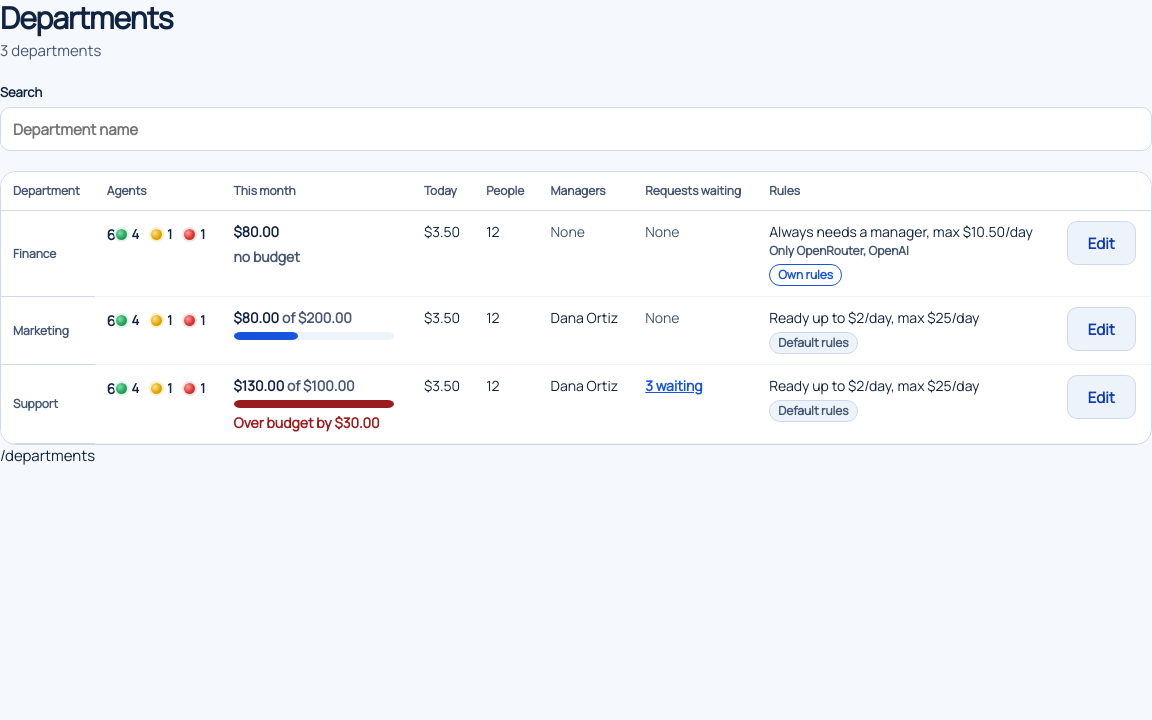
Test case: Departments page › goes back to the default rules with no budget
This screenshot has width=1152, height=720.
Expected: the column heading "Finance" is shown, 1,210 -> 95,296
Click the button with aria-label "Edit Finance" at (1101, 243), box 1067,221 -> 1136,265
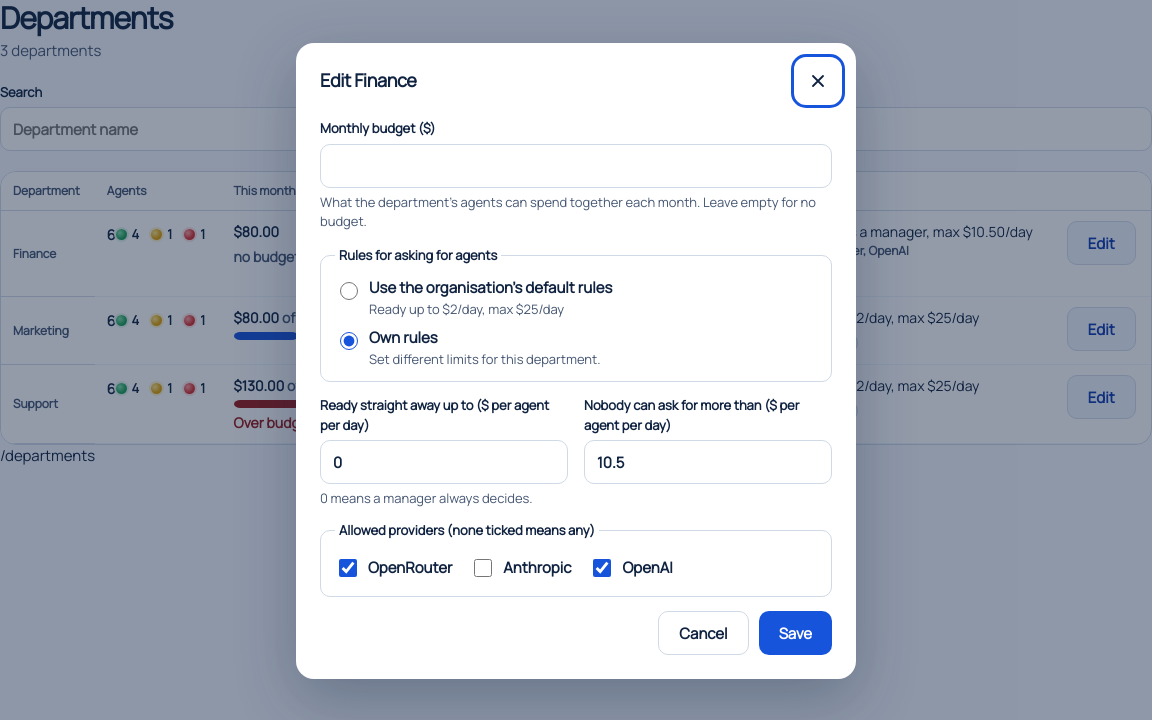
Expected: the radio button labelled "Own rules Set different limits for this department." is checked, 340,332 -> 358,350
Expected: the checkbox labelled "OpenAI" is checked, 594,559 -> 612,577
Expected: the checkbox labelled "OpenRouter" is checked, 339,559 -> 357,577
Click the radio button labelled "default rules" at (349, 291), box 340,282 -> 358,300
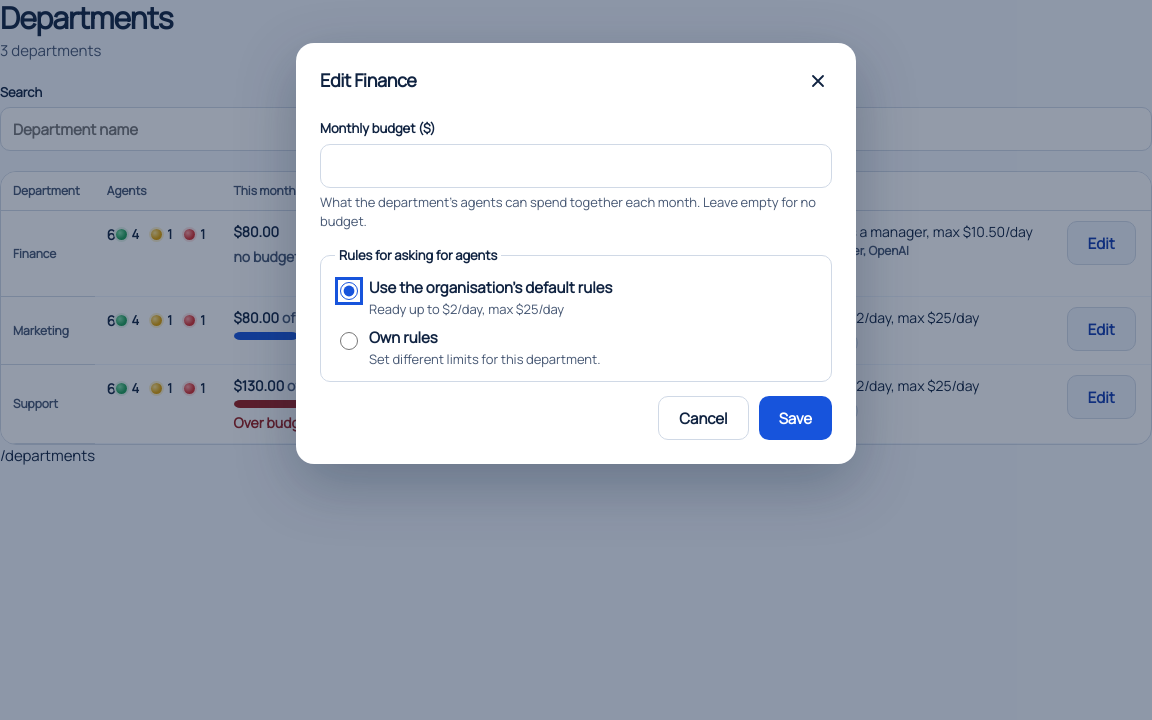
Click the button "Save" at (795, 418), box 759,396 -> 832,440
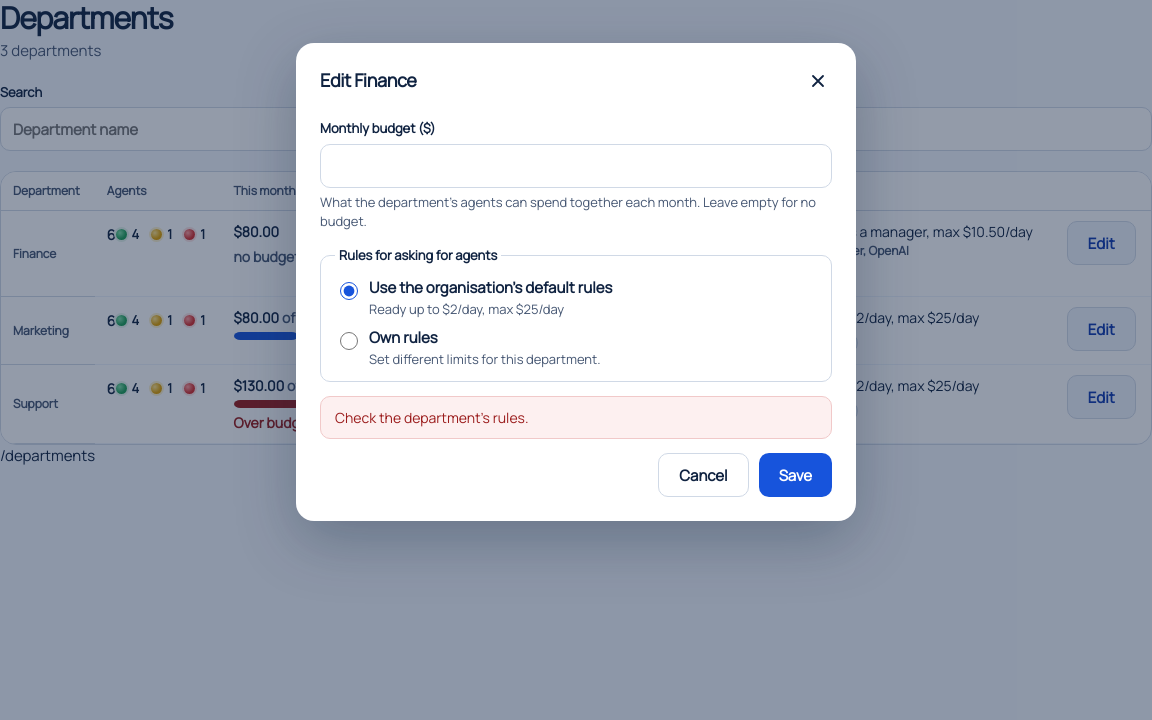
Expected: the message reads "Check the department's rules.", 335,408 -> 528,427
Click the button "Cancel" at (703, 475), box 658,453 -> 749,497
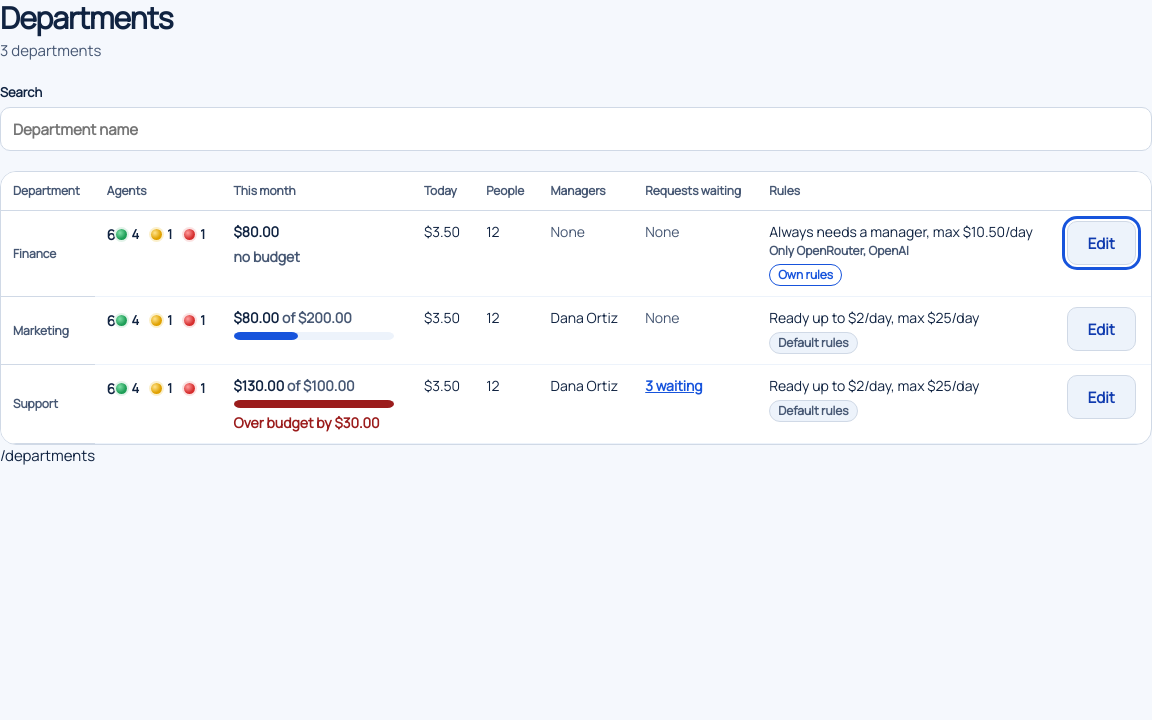
Expected: the dialog is gone
